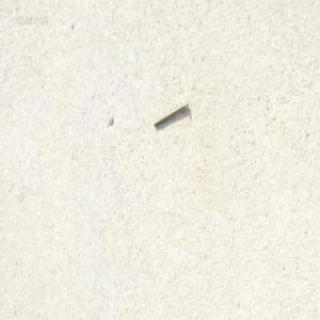Bolttrack_idkeyframe: (152, 99, 187, 127)
